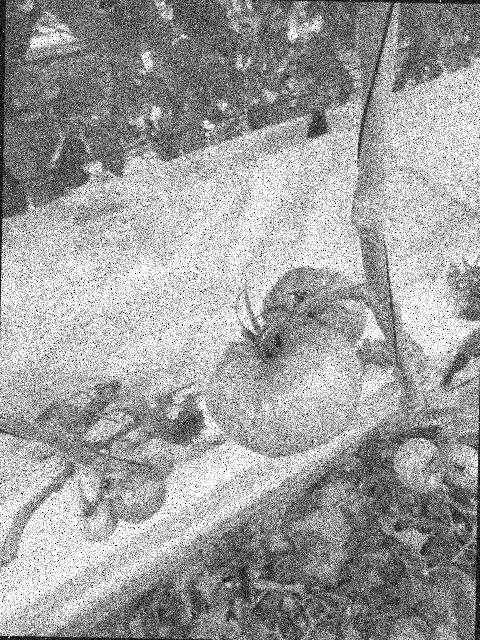b_green: (203, 314, 364, 460), (260, 266, 367, 349), (439, 444, 478, 490), (79, 499, 119, 543), (132, 438, 173, 479), (92, 469, 133, 502)
b_half_ripened: (113, 469, 166, 525), (393, 437, 445, 494)
